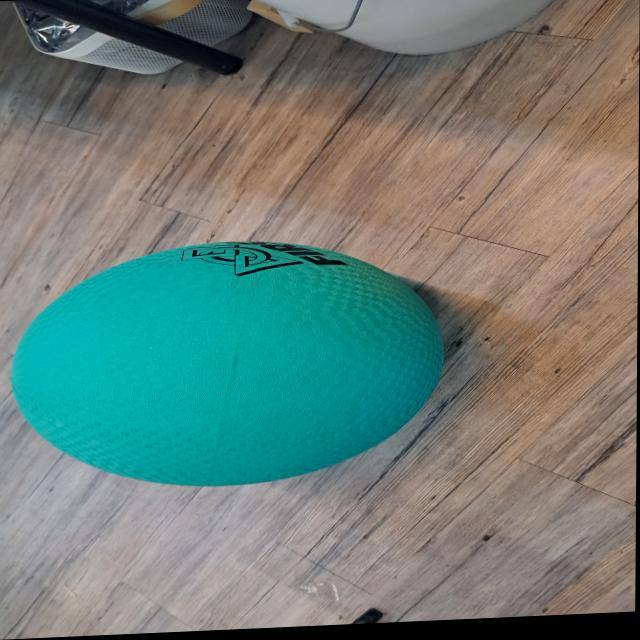ALGAE: (8, 230, 447, 497)
